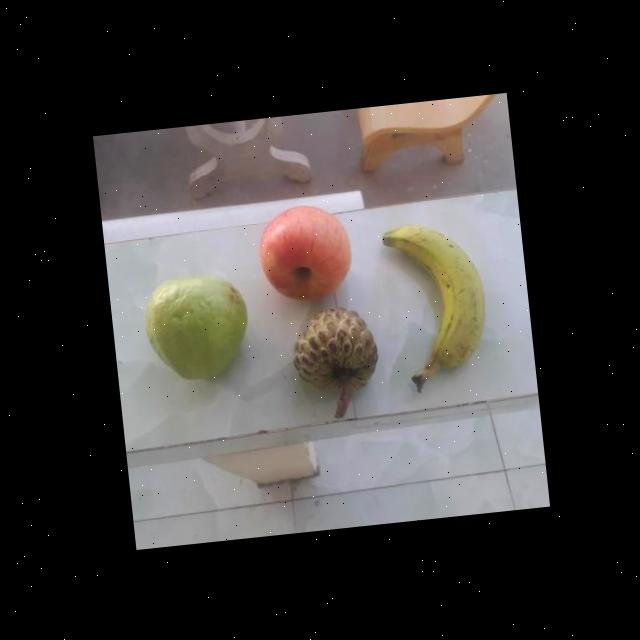Sakya fruit: (282, 302, 379, 408)
apple: (248, 199, 354, 304)
banana: (379, 218, 488, 380)
guava: (136, 272, 248, 381)
